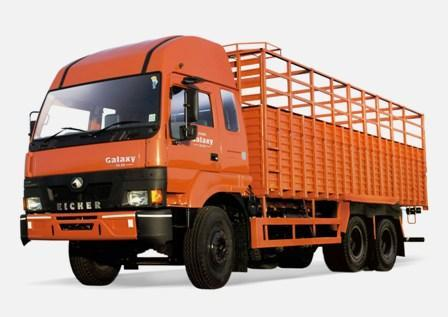truck: (30, 44, 425, 301)
